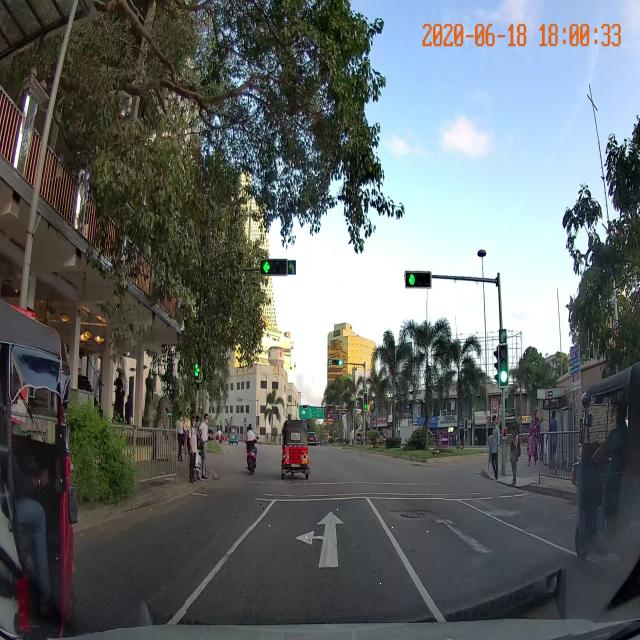forward_lft: (186, 498, 443, 611)
